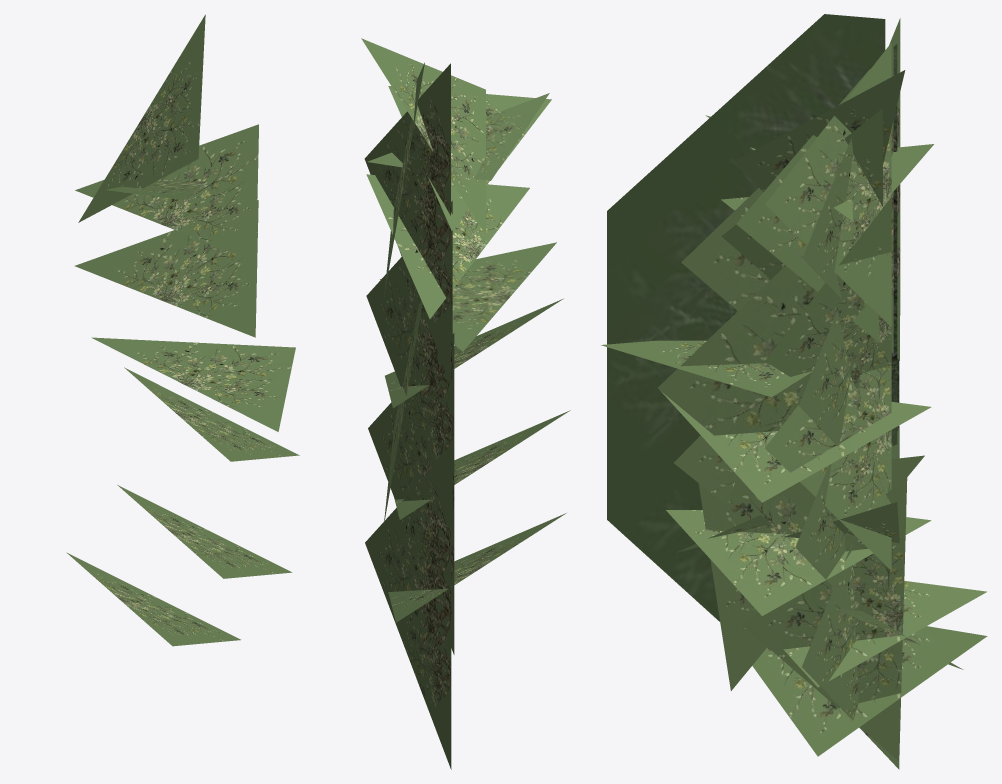
The model's file is caen_hedge_wall_3.glb.
3 views of the same model, side by side, from view 1: azimuth 30°, elevation 25°; view 2: azimuth 150°, elevation 25°; view 3: azimuth 270°, elevation 25° (orthographic). The views are drawn at different scales.
Size of the model in its own units: 99.52 by 358 by 163.
Materials: 1 (1 with a texture image).
